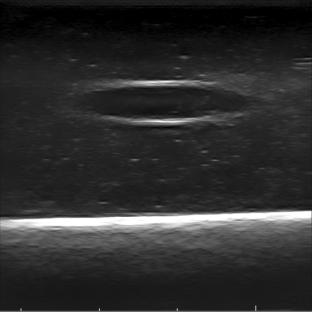vessel: (84, 80, 252, 126)
